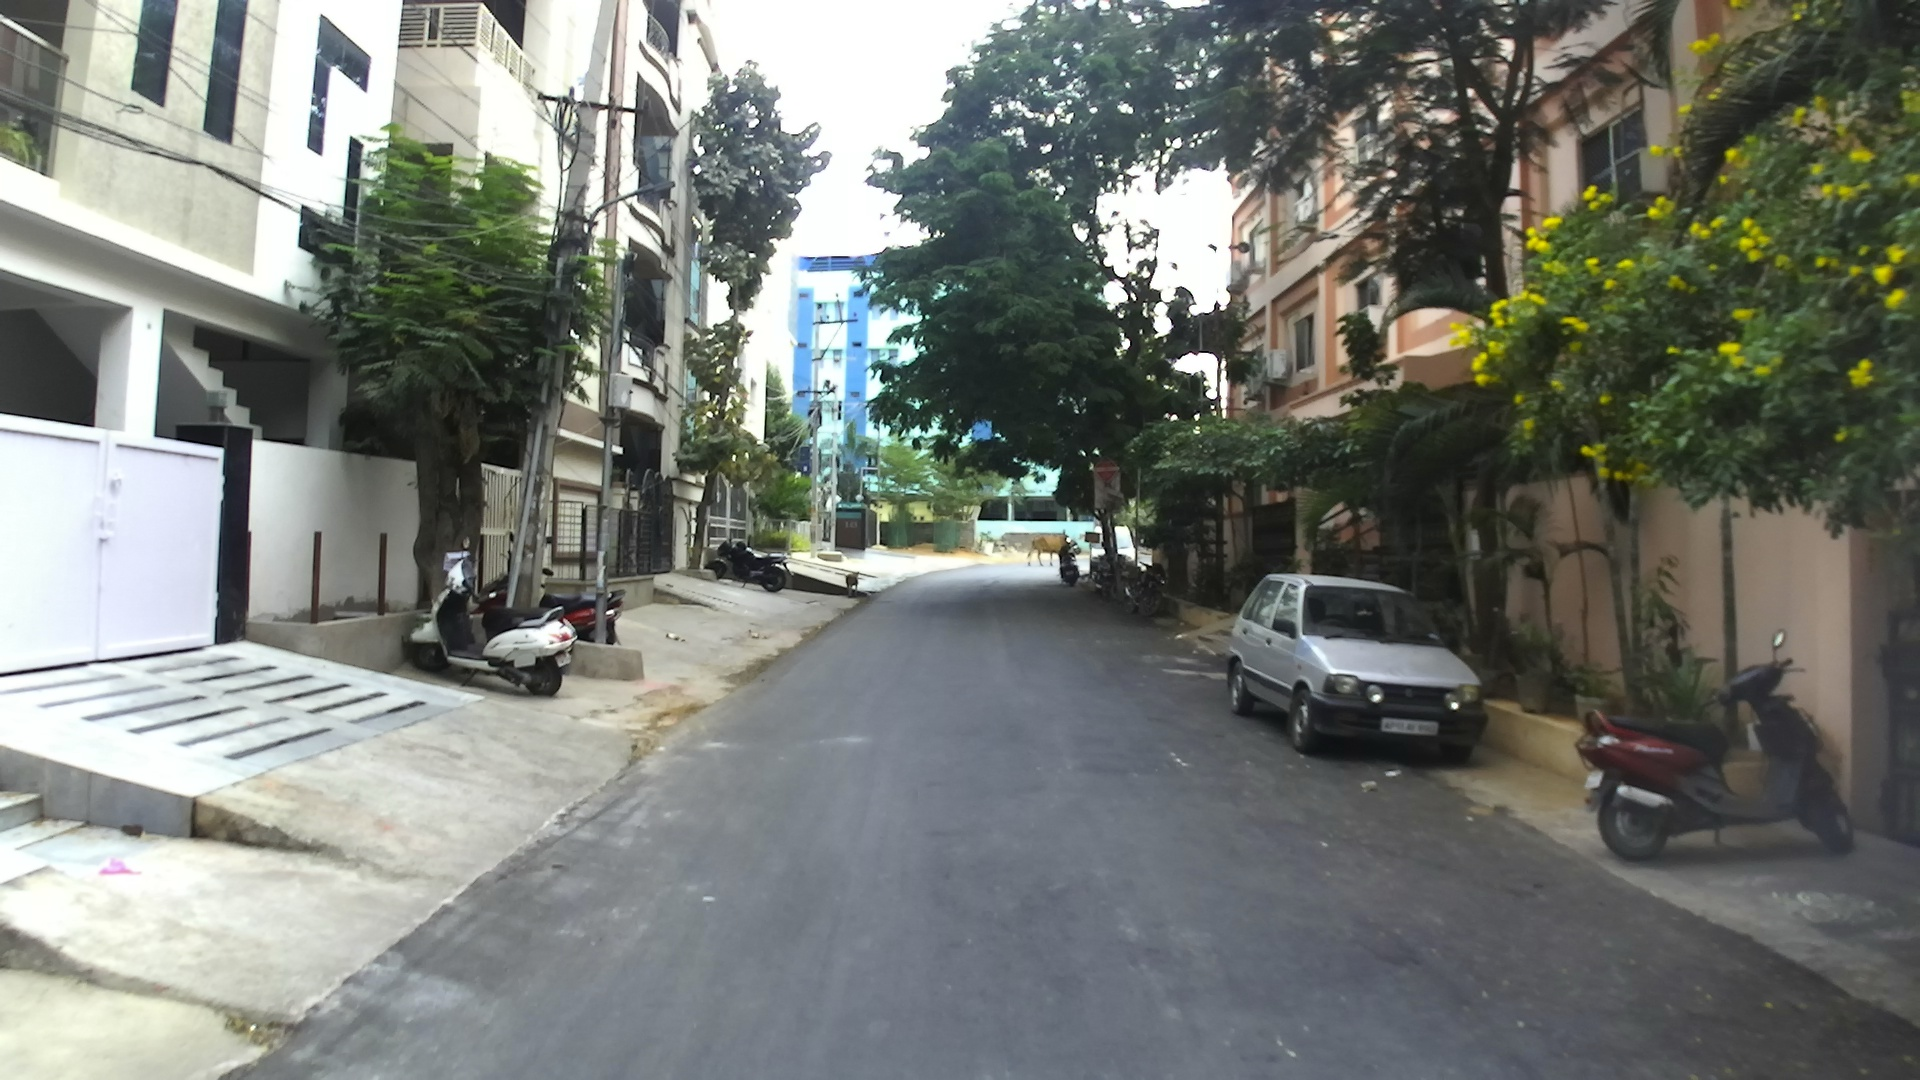vehicle: (1577, 636, 1855, 862), (1224, 571, 1487, 765)
